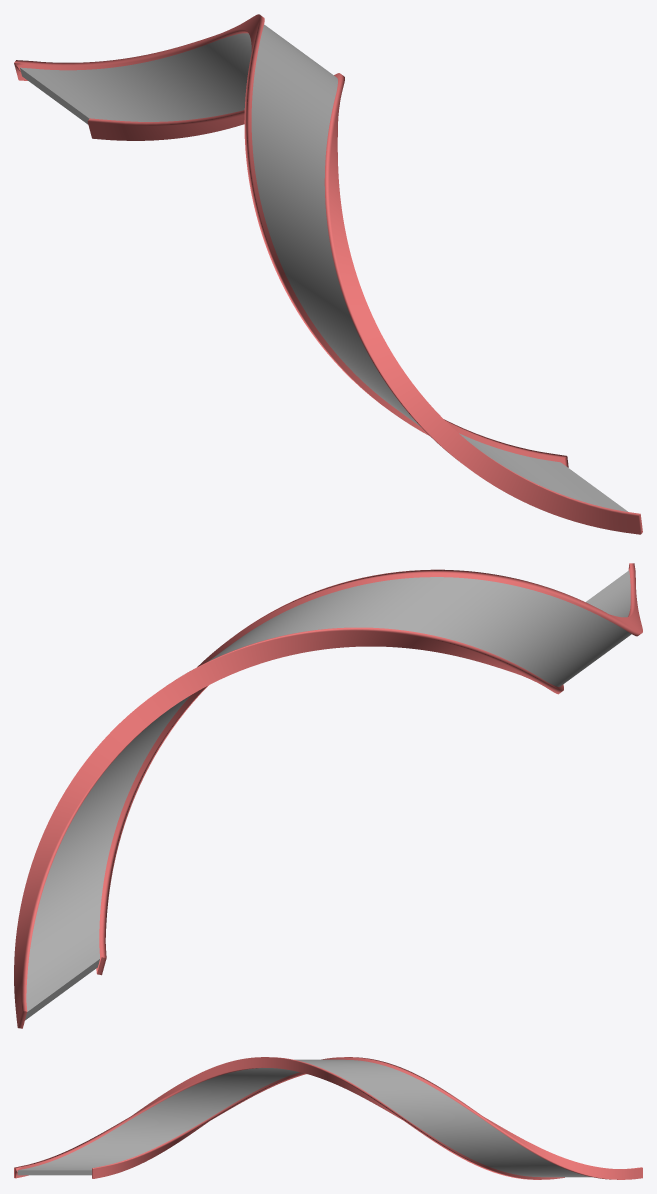
File: corkScrew.fbx
3 views of the same model, one above another, from view 1: azimuth 30°, elevation 25°; view 2: azimuth 150°, elevation 25°; view 3: azimuth 270°, elevation 25° (orthographic). The views are drawn at different scales.
Visible parts, largest first — view 1: polySurface2; view 2: polySurface2; view 3: polySurface2.
Boxes of the visible parts, bbox=[...] form: polySurface2: bbox=[14, 14, 642, 534]; polySurface2: bbox=[14, 563, 642, 1028]; polySurface2: bbox=[14, 1057, 642, 1179].
Size of the model in its own units: 1176 by 1176 by 6026.
